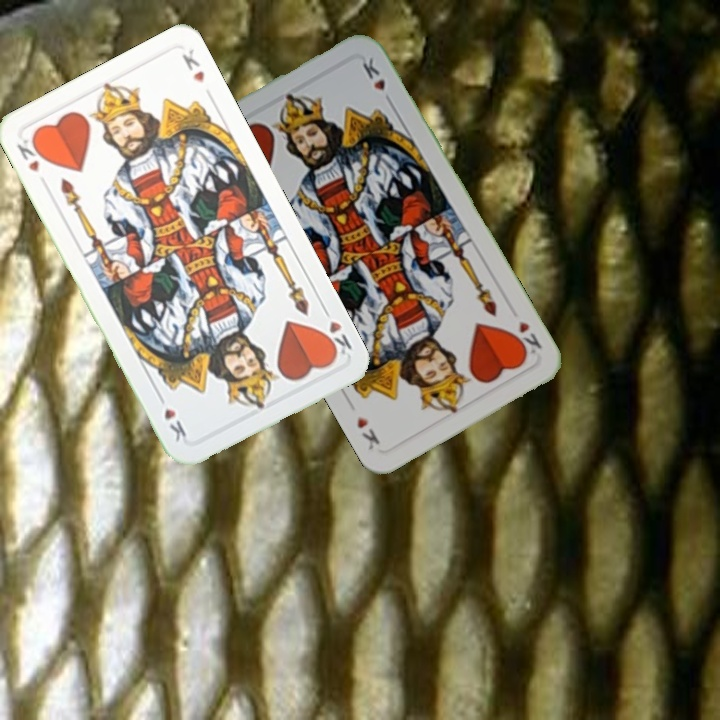HK: (317, 302, 355, 360), (12, 130, 48, 175), (509, 316, 545, 359)
